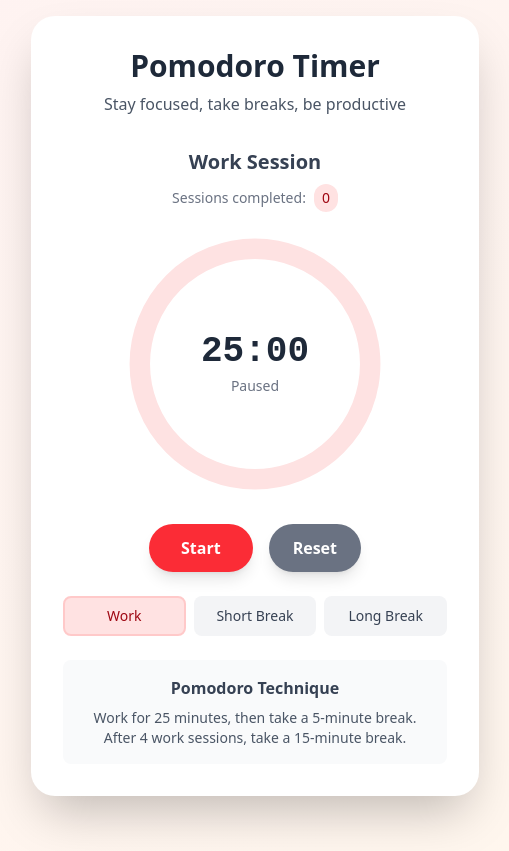
Scenario: Pomodoro Timer (+page.svelte) › should switch to long break session when button is clicked
The image size is (509, 851).
What coordinates should you click on to do the following:
click the button "Long Break"
I would click on:
 (386, 616)
Its box is [324,596,447,636].
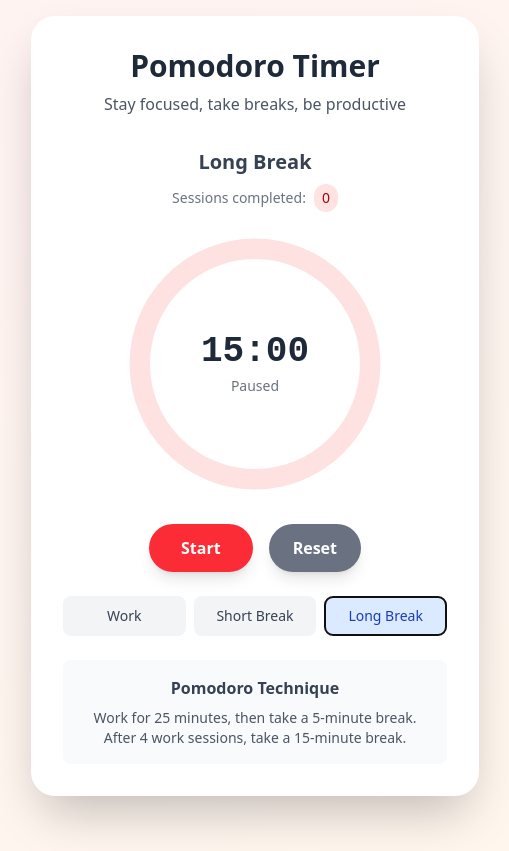
Check: the heading "Long Break" is shown, box [198,148,312,175]
Check: the text "15:00" is shown, box [201,332,309,372]
